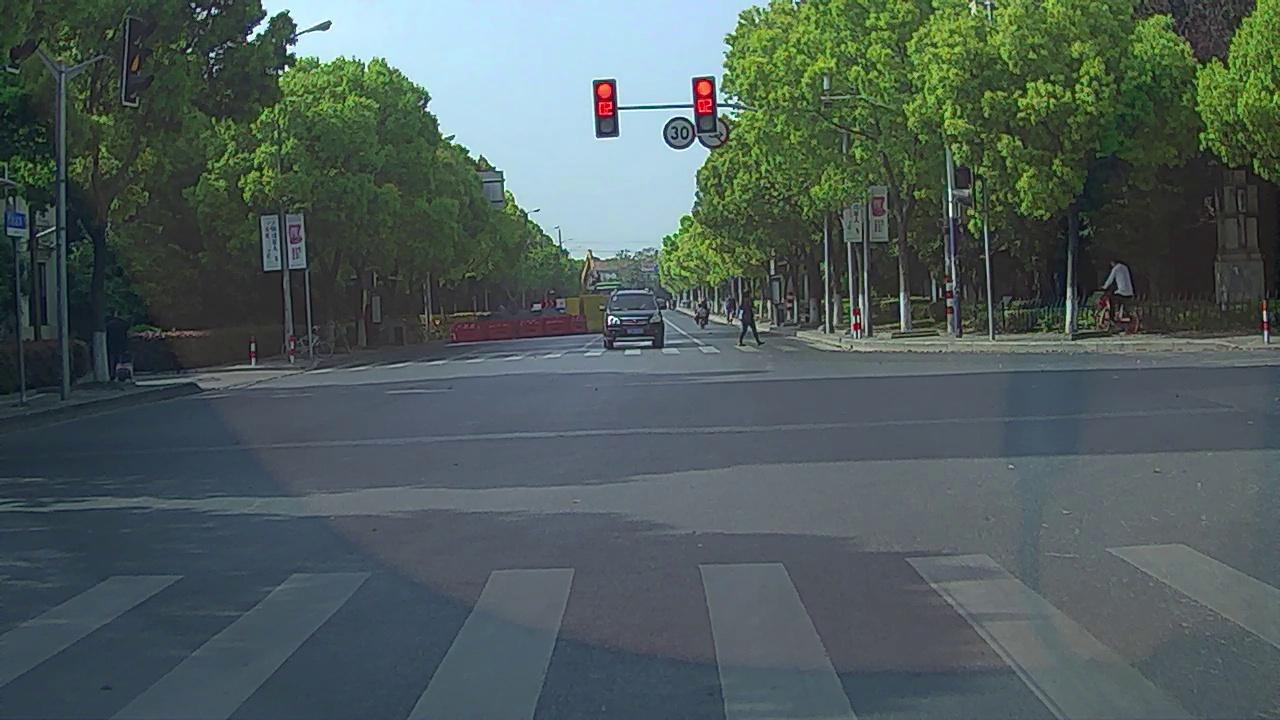traffic_light: (593, 79, 618, 136), (693, 77, 717, 133)
